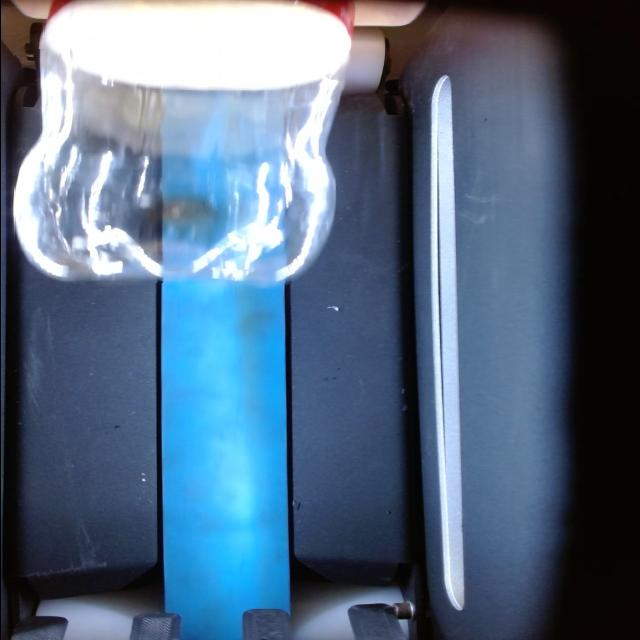bottom: (14, 50, 338, 283)
label: (43, 0, 354, 90)
